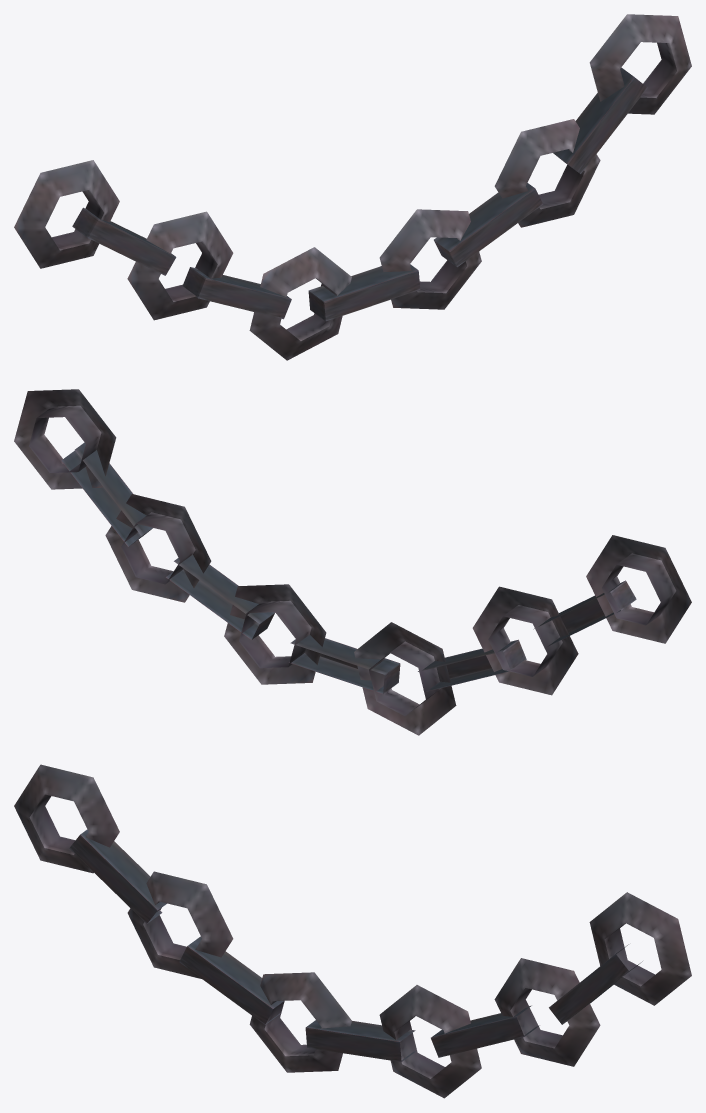
The model's file is dungeon_5.FBX.
3 renders of one model, top to bottom at view 1: azimuth 30°, elevation 25°; view 2: azimuth 150°, elevation 25°; view 3: azimuth 330°, elevation 25°, orthographic.
Visible parts, largest first — view 1: dungeon_5; view 2: dungeon_5; view 3: dungeon_5.
Boxes of the visible parts, <box> form: dungeon_5: <box>14,14,691,360</box>; dungeon_5: <box>14,389,691,735</box>; dungeon_5: <box>14,764,691,1098</box>.
Bounding box in the file's own units: 78.61 × 29.21 × 3.45.
